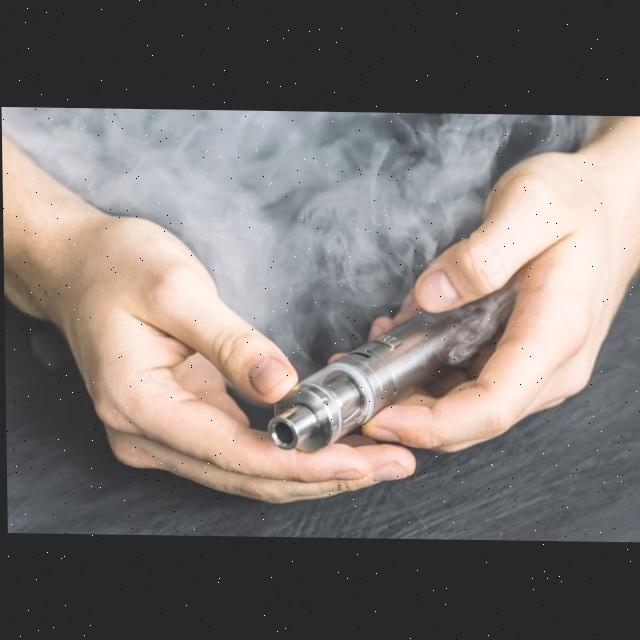vape: (265, 285, 516, 458)
